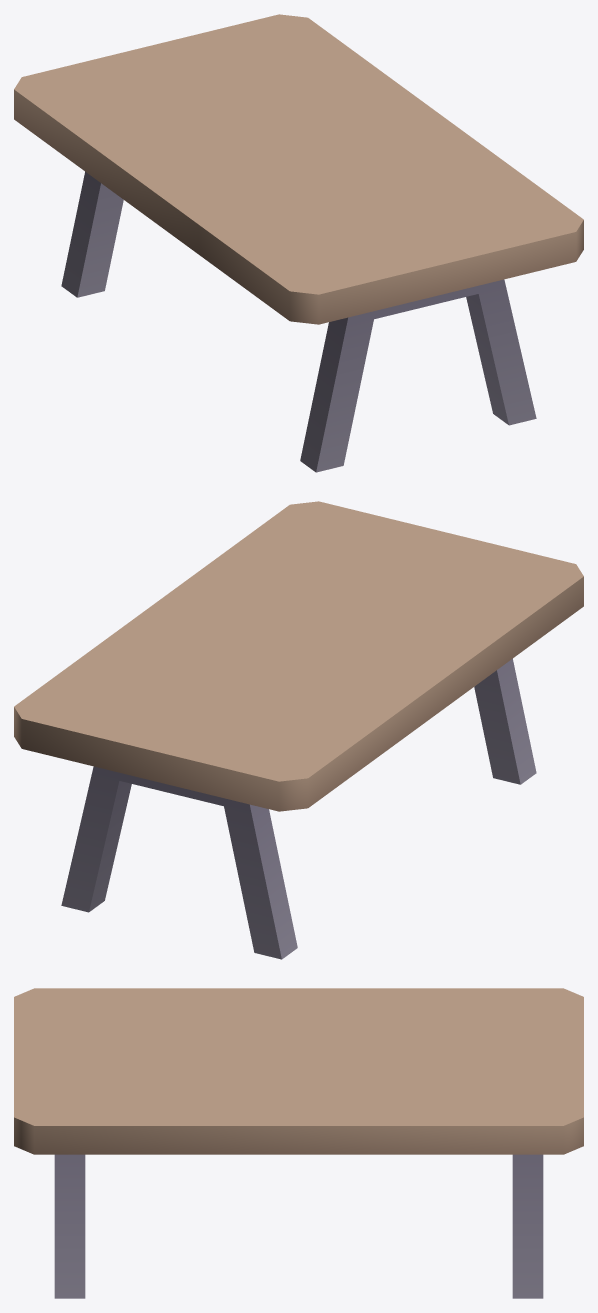
File: table-rectangle-metal-legs.glb
3 views of the same model, one above another, from view 1: azimuth 30°, elevation 25°; view 2: azimuth 150°, elevation 25°; view 3: azimuth 270°, elevation 25° (orthographic). The views are drawn at different scales.
Visible parts, largest first — view 1: table-rectangle-metal-legs; view 2: table-rectangle-metal-legs; view 3: table-rectangle-metal-legs.
Boxes of the visible parts, <box> form: table-rectangle-metal-legs: <box>14,14,583,472</box>; table-rectangle-metal-legs: <box>14,501,583,959</box>; table-rectangle-metal-legs: <box>14,988,583,1298</box>.
Size of the model in its own units: 0.8 by 0.5146 by 1.4.
